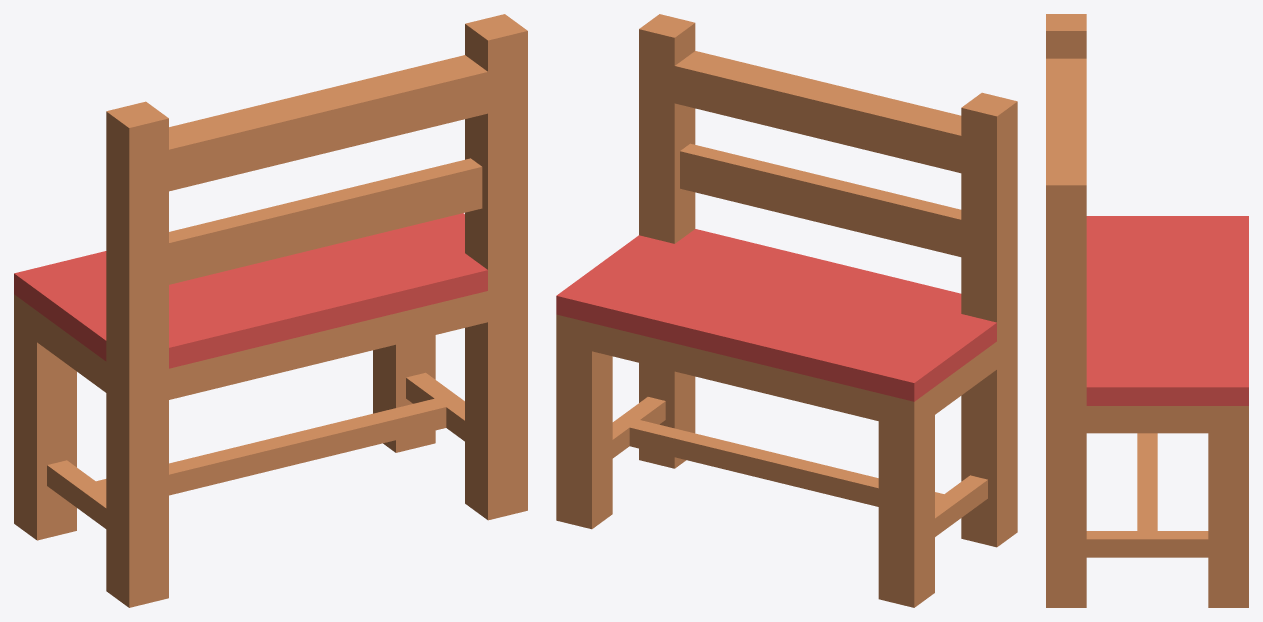
File: benchCushion.obj
The picture shows the model from 3 angles, left to right: view 1: azimuth 30°, elevation 25°; view 2: azimuth 150°, elevation 25°; view 3: azimuth 270°, elevation 25°; orthographic projection. The views are drawn at different scales.
Parts seen in each view (by area): view 1: benchCushion; view 2: benchCushion; view 3: benchCushion.
Part boxes in pixels (x1,y1,x2,y2): benchCushion: (14, 14, 527, 607); benchCushion: (556, 14, 1017, 607); benchCushion: (1046, 14, 1248, 607).
Size of the model in its own units: 0.4 by 0.46 by 0.2.
